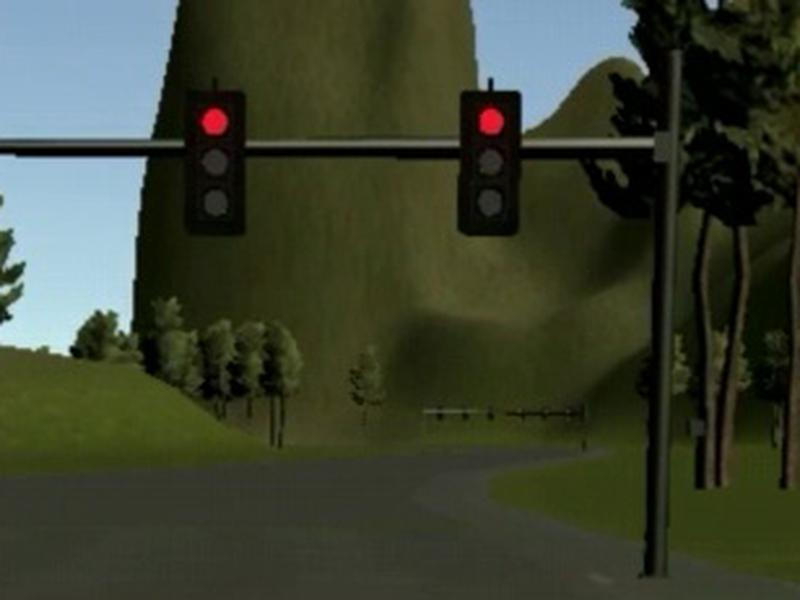Red: (462, 93, 519, 234), (188, 90, 244, 232)
